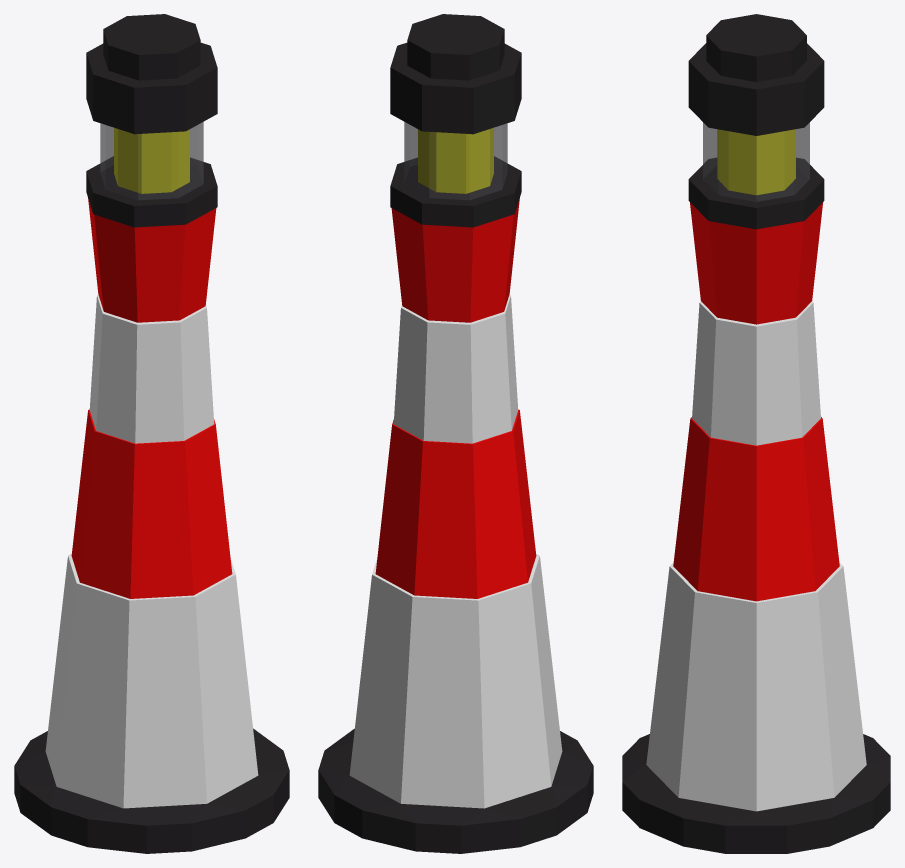
The model's file is Lighthouse.obj.
3 views of the same model, side by side, from view 1: azimuth 30°, elevation 25°; view 2: azimuth 150°, elevation 25°; view 3: azimuth 270°, elevation 25° (orthographic).
Parts seen in each view (by area): view 1: Cylinder0011, Cylinder0021, Cylinder1, Cylinder0031, Cylinder0041, Cylinder0072, Cylinder0061, Cylinder0081, Cylinder0071, Cylinder0051; view 2: Cylinder0011, Cylinder0021, Cylinder1, Cylinder0031, Cylinder0041, Cylinder0072, Cylinder0061, Cylinder0081, Cylinder0071, Cylinder0051; view 3: Cylinder0011, Cylinder0021, Cylinder0031, Cylinder1, Cylinder0041, Cylinder0072, Cylinder0061, Cylinder0081, Cylinder0071, Cylinder0051.
Part boxes in pixels (x1=…): Cylinder0011: x1=45, y1=553, x2=258, y2=808; Cylinder0021: x1=71, y1=409, x2=232, y2=598; Cylinder1: x1=14, y1=728, x2=289, y2=853; Cylinder0031: x1=89, y1=294, x2=214, y2=443; Cylinder0041: x1=88, y1=198, x2=216, y2=322; Cylinder0072: x1=86, y1=42, x2=217, y2=134; Cylinder0061: x1=100, y1=122, x2=203, y2=200; Cylinder0081: x1=103, y1=14, x2=200, y2=80; Cylinder0071: x1=86, y1=156, x2=217, y2=227; Cylinder0051: x1=114, y1=128, x2=189, y2=193; Cylinder0011: x1=349, y1=553, x2=562, y2=808; Cylinder0021: x1=375, y1=409, x2=536, y2=598; Cylinder1: x1=318, y1=728, x2=593, y2=853; Cylinder0031: x1=393, y1=294, x2=518, y2=443; Cylinder0041: x1=391, y1=198, x2=519, y2=322; Cylinder0072: x1=390, y1=42, x2=521, y2=134; Cylinder0061: x1=404, y1=122, x2=507, y2=200; Cylinder0081: x1=407, y1=14, x2=504, y2=80; Cylinder0071: x1=390, y1=156, x2=521, y2=227; Cylinder0051: x1=418, y1=128, x2=493, y2=193; Cylinder0011: x1=646, y1=562, x2=866, y2=811; Cylinder0021: x1=673, y1=417, x2=839, y2=601; Cylinder0031: x1=692, y1=301, x2=820, y2=445; Cylinder1: x1=622, y1=734, x2=890, y2=853; Cylinder0041: x1=690, y1=202, x2=823, y2=324; Cylinder0072: x1=688, y1=43, x2=824, y2=135; Cylinder0061: x1=703, y1=122, x2=809, y2=201; Cylinder0081: x1=706, y1=14, x2=806, y2=81; Cylinder0071: x1=688, y1=158, x2=824, y2=229; Cylinder0051: x1=717, y1=129, x2=795, y2=195.
Bounding box in the file's own units: 20 × 62.97 × 20.
